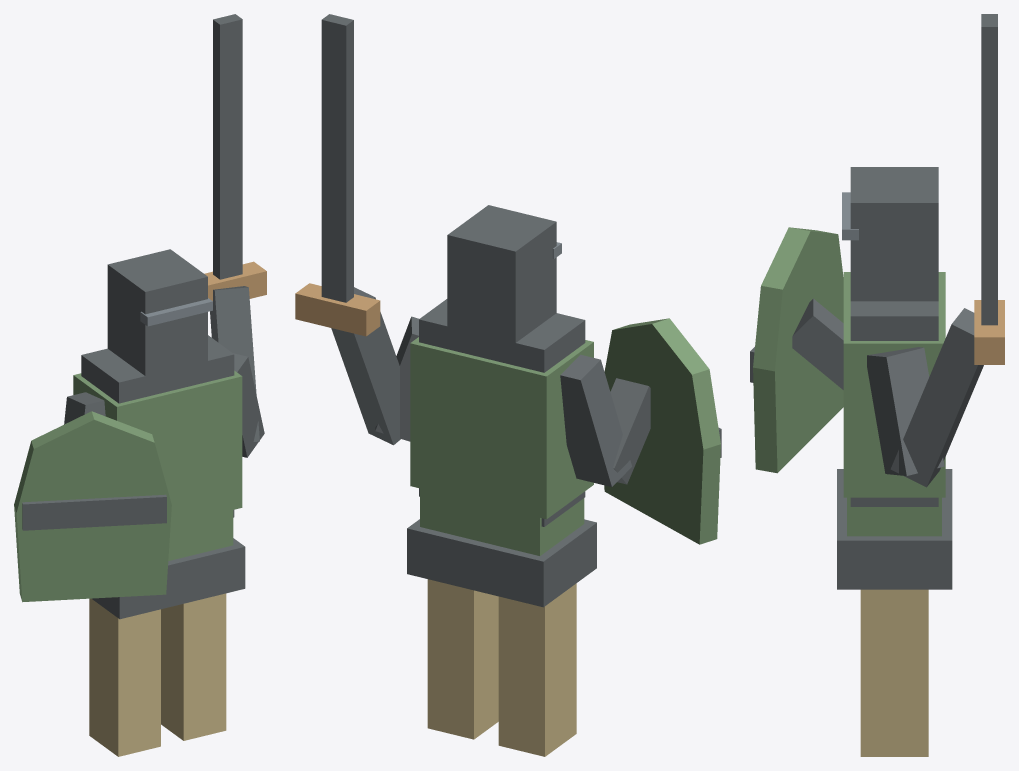
Rendered from man-at-arms-green.glb.
The picture shows the model from 3 angles, left to right: view 1: azimuth 30°, elevation 25°; view 2: azimuth 150°, elevation 25°; view 3: azimuth 270°, elevation 25°; orthographic projection. The views are drawn at different scales.
Parts seen in each view (by area): view 1: man-at-arms-green; view 2: man-at-arms-green; view 3: man-at-arms-green.
Part boxes in pixels (x1=…): man-at-arms-green: x1=14, y1=14, x2=266, y2=756; man-at-arms-green: x1=295, y1=14, x2=721, y2=756; man-at-arms-green: x1=750, y1=14, x2=1004, y2=756.
Size of the model in its own units: 1.25 by 2.5 by 0.7511.
